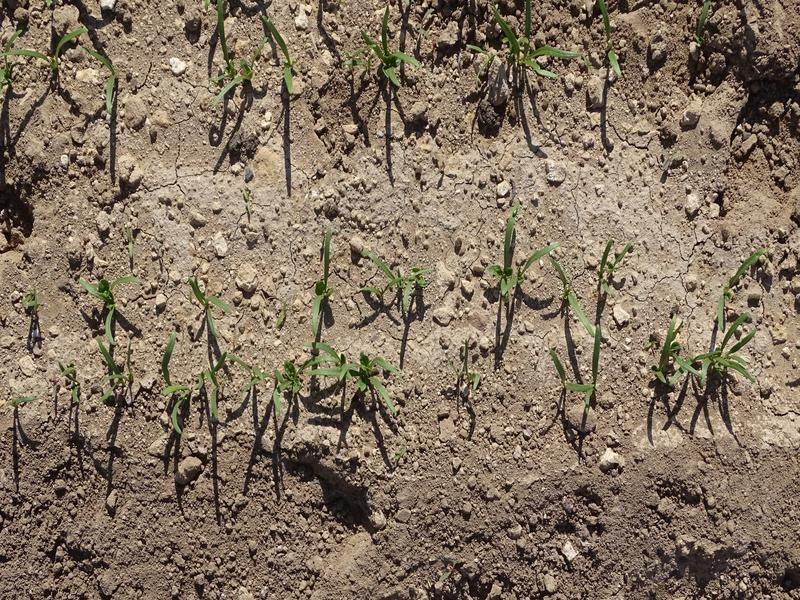Espinaca: (166, 359, 301, 425), (651, 308, 759, 385), (306, 342, 402, 421), (214, 16, 302, 99), (493, 6, 578, 83), (481, 217, 557, 296), (79, 268, 144, 341), (550, 327, 609, 401), (361, 247, 424, 313), (369, 15, 425, 88), (184, 275, 229, 342), (9, 27, 87, 65), (716, 246, 764, 305), (559, 268, 596, 334), (95, 349, 135, 403), (310, 225, 330, 330), (90, 50, 123, 109), (595, 246, 625, 296)
